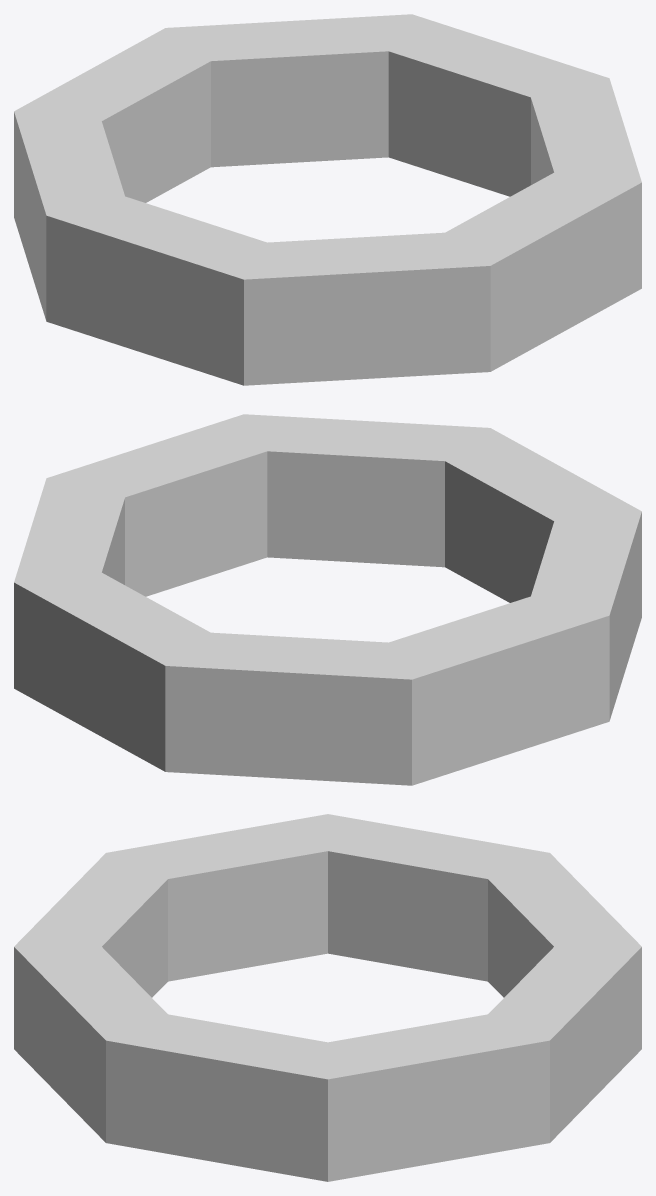
The model's file is ring.fbx.
The picture shows the model from 3 angles, top to bottom: view 1: azimuth 30°, elevation 25°; view 2: azimuth 150°, elevation 25°; view 3: azimuth 270°, elevation 25°; orthographic projection. The views are drawn at different scales.
Visible parts, largest first — view 1: Ring; view 2: Ring; view 3: Ring.
Part boxes in pixels (x1=…): Ring: x1=14, y1=14, x2=641, y2=385; Ring: x1=14, y1=414, x2=641, y2=785; Ring: x1=14, y1=814, x2=641, y2=1181.
Size of the model in its own units: 278 by 50 by 278.
